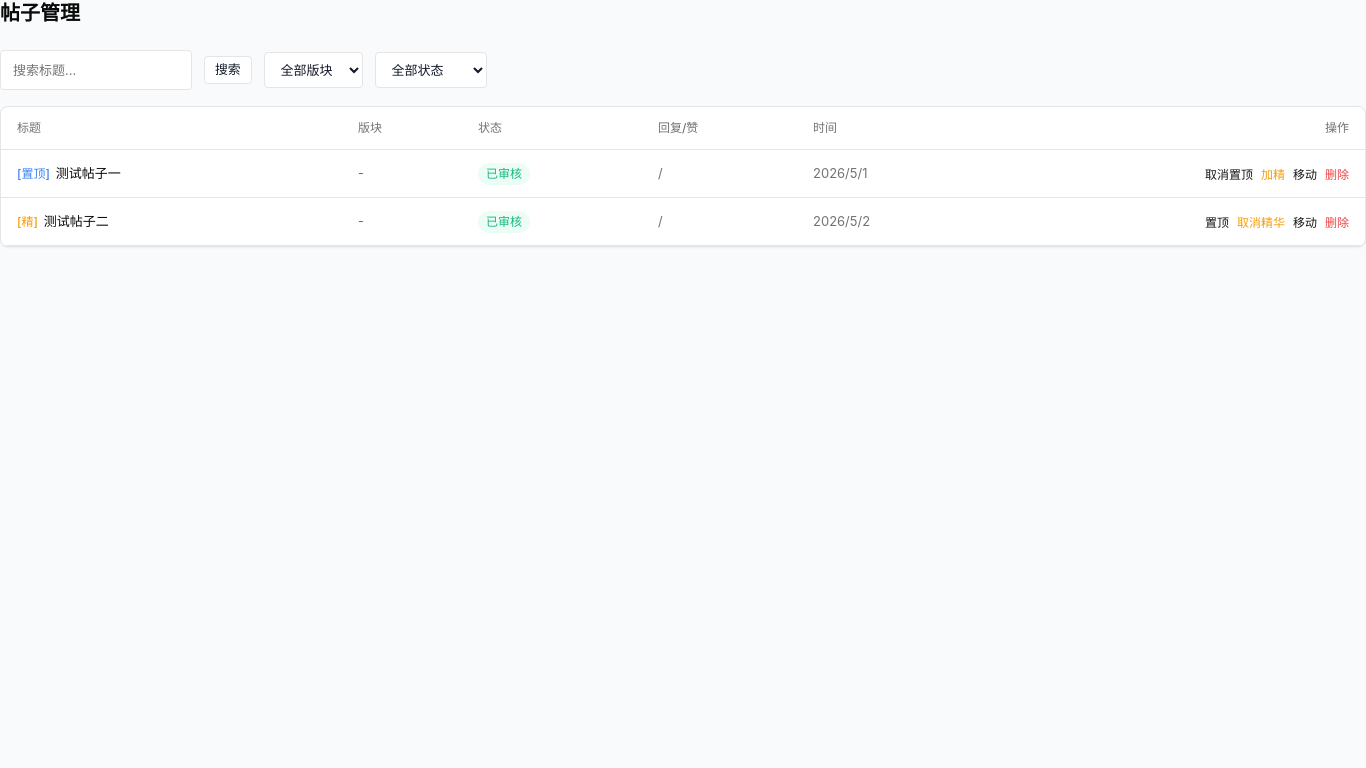
it: PostsPage › opens delete confirmation on delete click
The image size is (1366, 768).
Expected: the text "测试帖子一" is shown, [56,164,121,183]
Click the button "删除" in the row of "[置顶]" at (1337, 175), box [1325,166,1349,184]
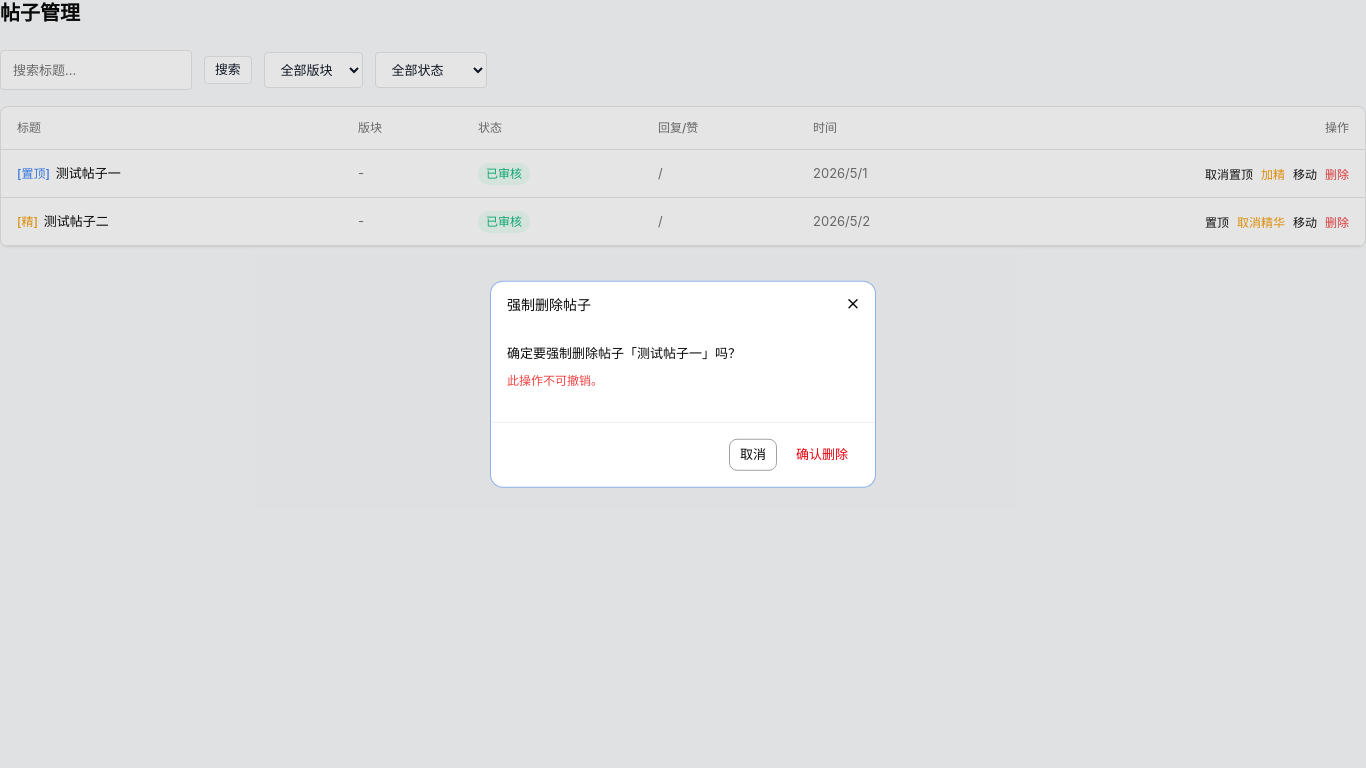
Result: the heading "强制删除帖子" is shown at [507,296,591,313]
